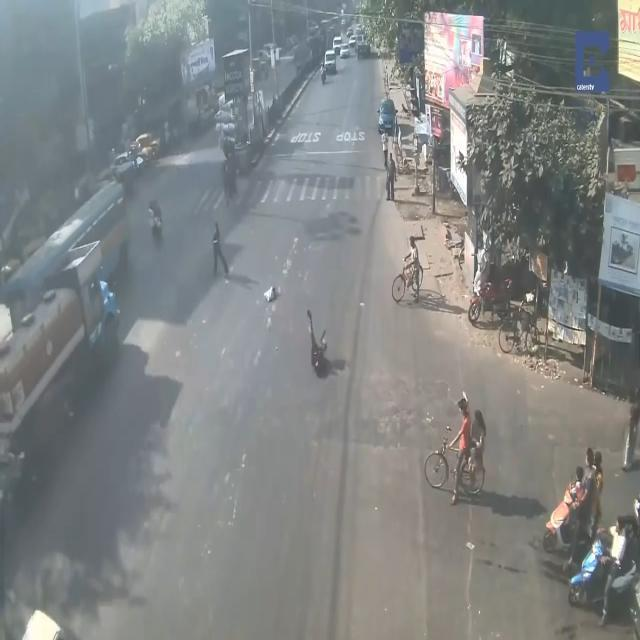accident: (301, 295, 338, 389)
